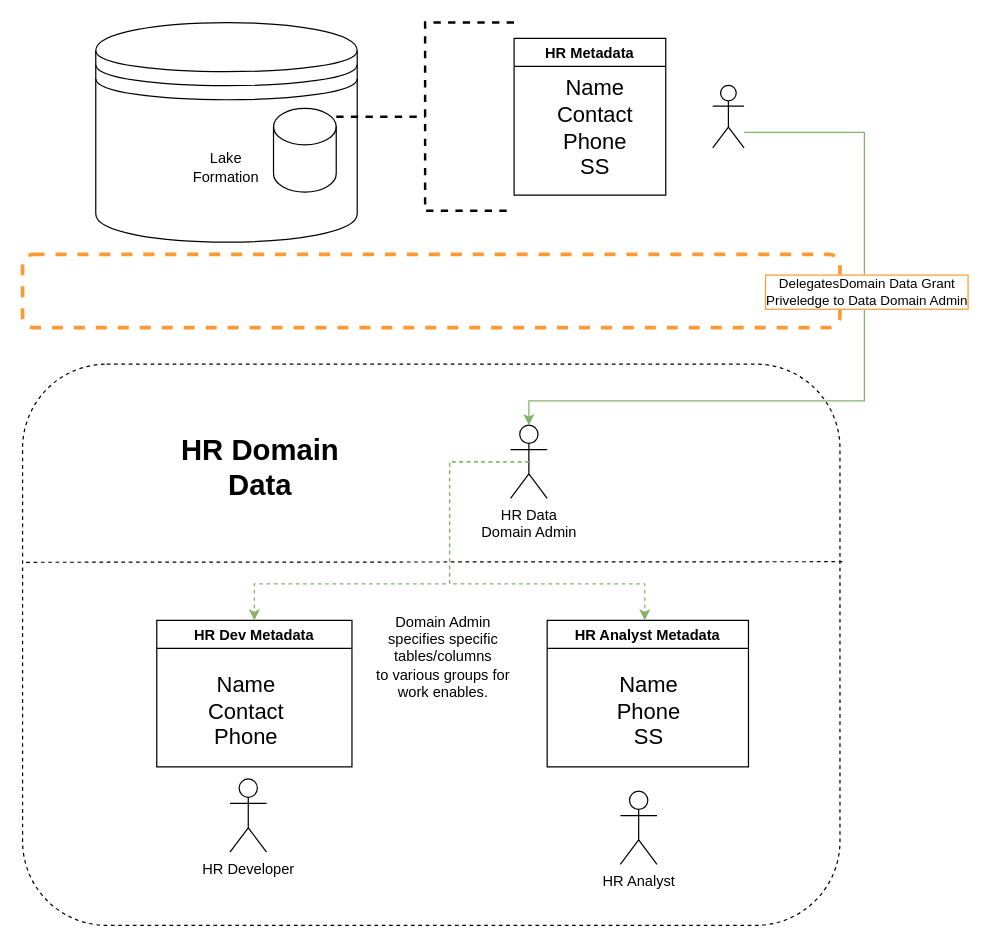
Some shapes in this 989 by 947 pixel diagram are drawn without their labels. The shapes that lost their labels are listed below. From the top down, each one's centre as x and y in pixels, then its label:
At (x=728, y=116): "LF Admin".
At (x=304, y=149): "HR Data".
At (x=430, y=290): "Data Mesh".
